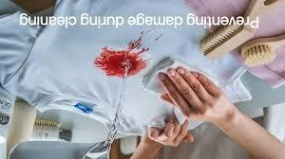blood: (95, 47, 146, 77)
